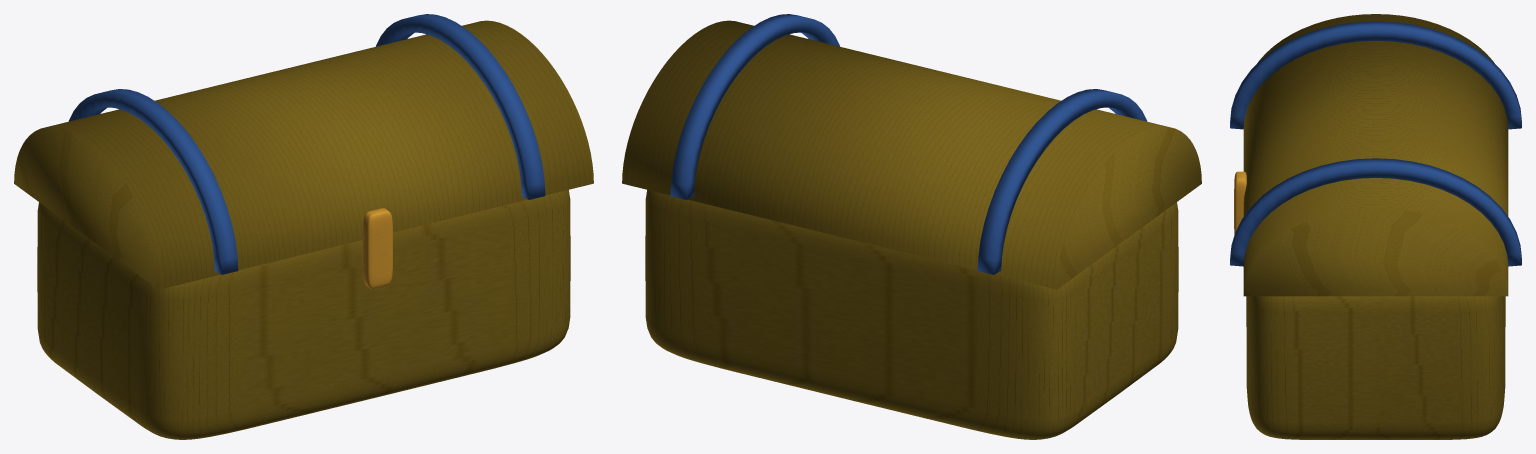
The model's file is chest.glb.
3 renders of one model, left to right at view 1: azimuth 30°, elevation 25°; view 2: azimuth 150°, elevation 25°; view 3: azimuth 270°, elevation 25°, orthographic. The views are drawn at different scales.
Parts seen in each view (by area): view 1: chest_olive wood__lid, chest_olive wood, chest_blue iron__lid, chest_aged gold; view 2: chest_olive wood__lid, chest_olive wood, chest_blue iron__lid; view 3: chest_olive wood__lid, chest_olive wood, chest_blue iron__lid, chest_aged gold.
Boxes of the visible parts, x1,y1,x2,y2 form: chest_olive wood__lid: (14, 20, 593, 289); chest_olive wood: (37, 190, 570, 439); chest_blue iron__lid: (68, 14, 545, 274); chest_aged gold: (362, 208, 392, 288); chest_olive wood__lid: (622, 20, 1201, 289); chest_olive wood: (645, 190, 1178, 439); chest_blue iron__lid: (670, 14, 1147, 274); chest_olive wood__lid: (1243, 14, 1508, 296); chest_olive wood: (1246, 296, 1505, 439); chest_blue iron__lid: (1230, 21, 1521, 266); chest_aged gold: (1234, 171, 1246, 234).
Size of the model in its own units: 0.85 by 0.541 by 0.5398.
3 materials, 2 textured.
